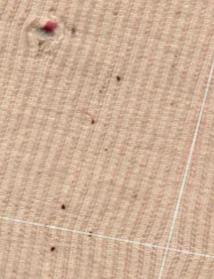hole: (32, 13, 68, 44)
stain: (81, 110, 106, 133), (51, 199, 79, 218), (41, 239, 63, 260), (108, 69, 131, 88)
